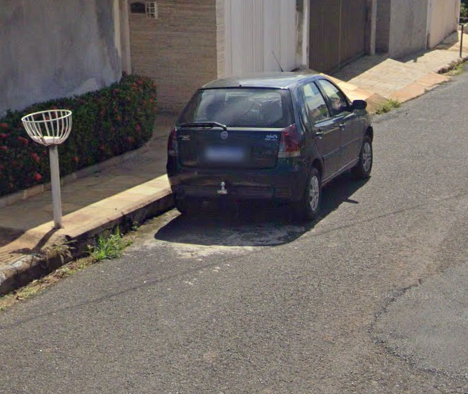car: (162, 49, 379, 230)
